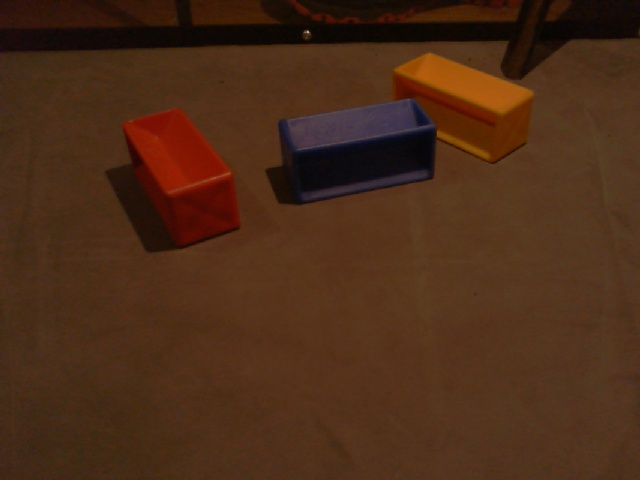BlueSample: (279, 97, 438, 206)
RedSample: (118, 104, 242, 250)
YellowSample: (389, 49, 535, 164)
